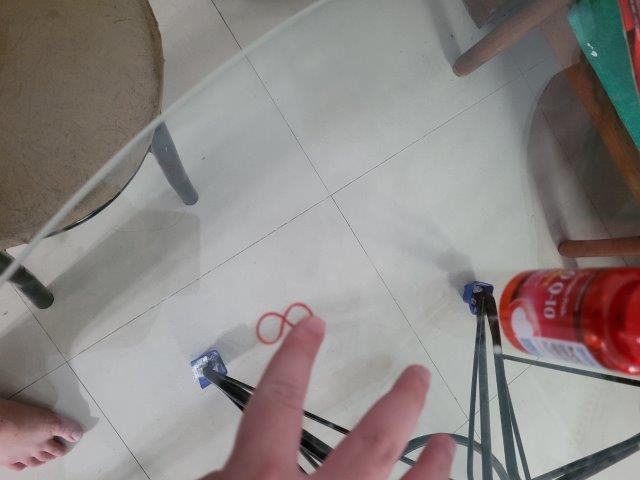karet: (254, 301, 313, 350)
